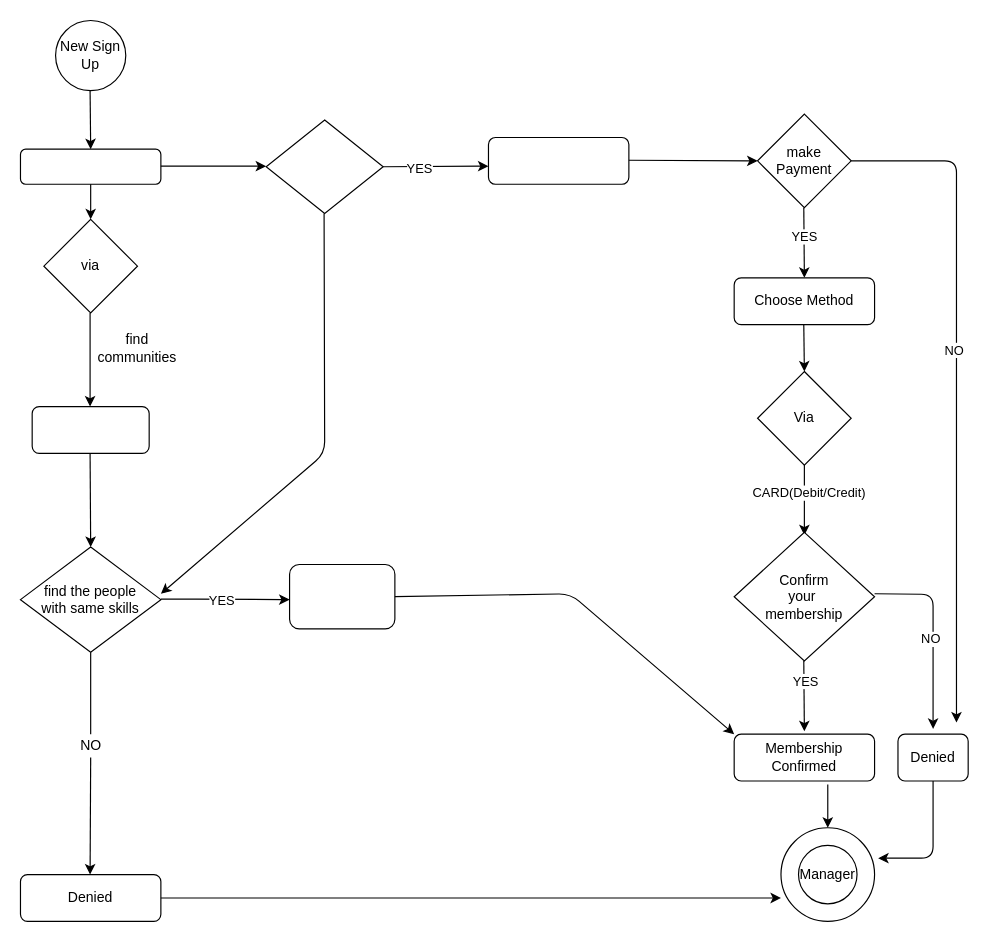
This 989x942 diagram has some shape labels left out. The shapes that lost their labels are listed below. From the top down, each one's centre as x and y in pixels, then its label:
At (x=90, y=166): "sign up".
At (x=324, y=166): "Create Profile".
At (x=558, y=160): "Profile Created".
At (x=90, y=429): "Garden Partners".
At (x=341, y=596): "make profile".
